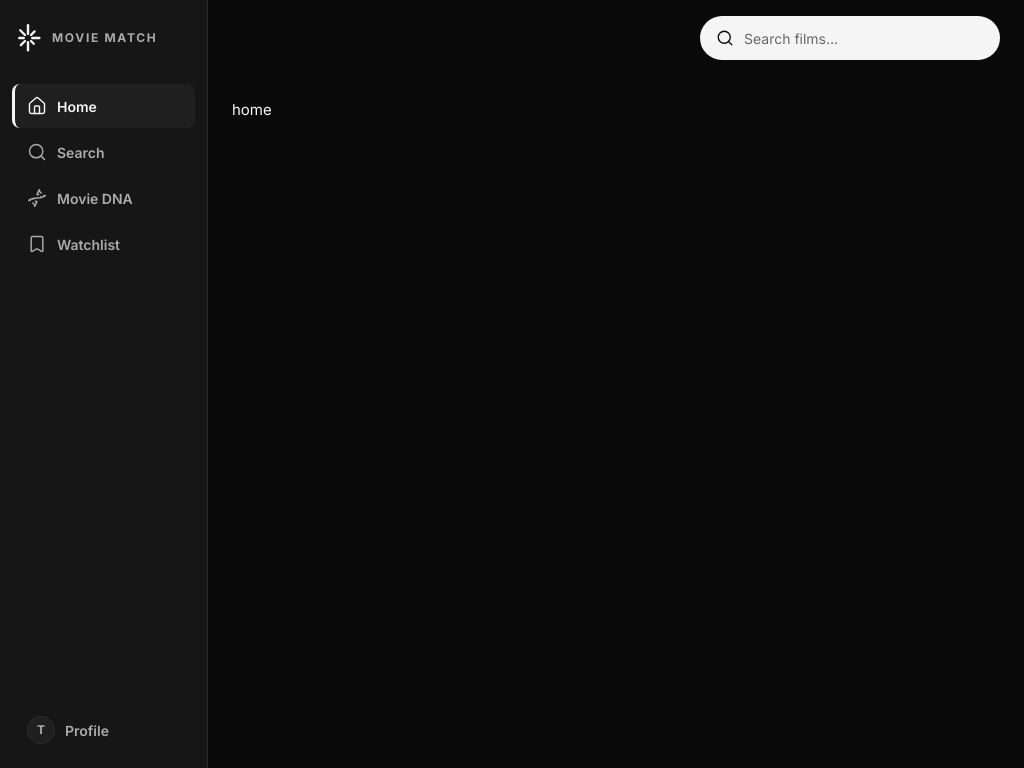
AppShell › opens the search screen with what was typed in the pill
The width and height of the screenshot is (1024, 768).
Type "heat" into the search field named "Film title".
click(863, 38); type("heat")  # box [742, 16, 984, 60]
Then press Enter
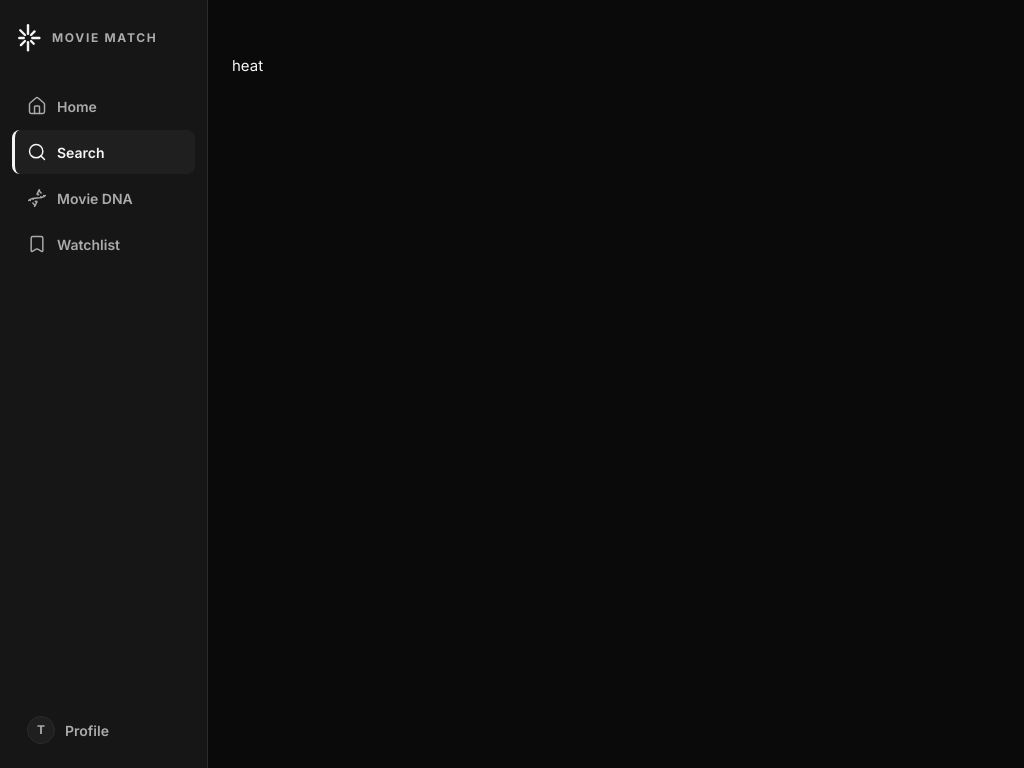
Expected: the text with test id "q" reads "heat", [232, 56, 263, 75]
